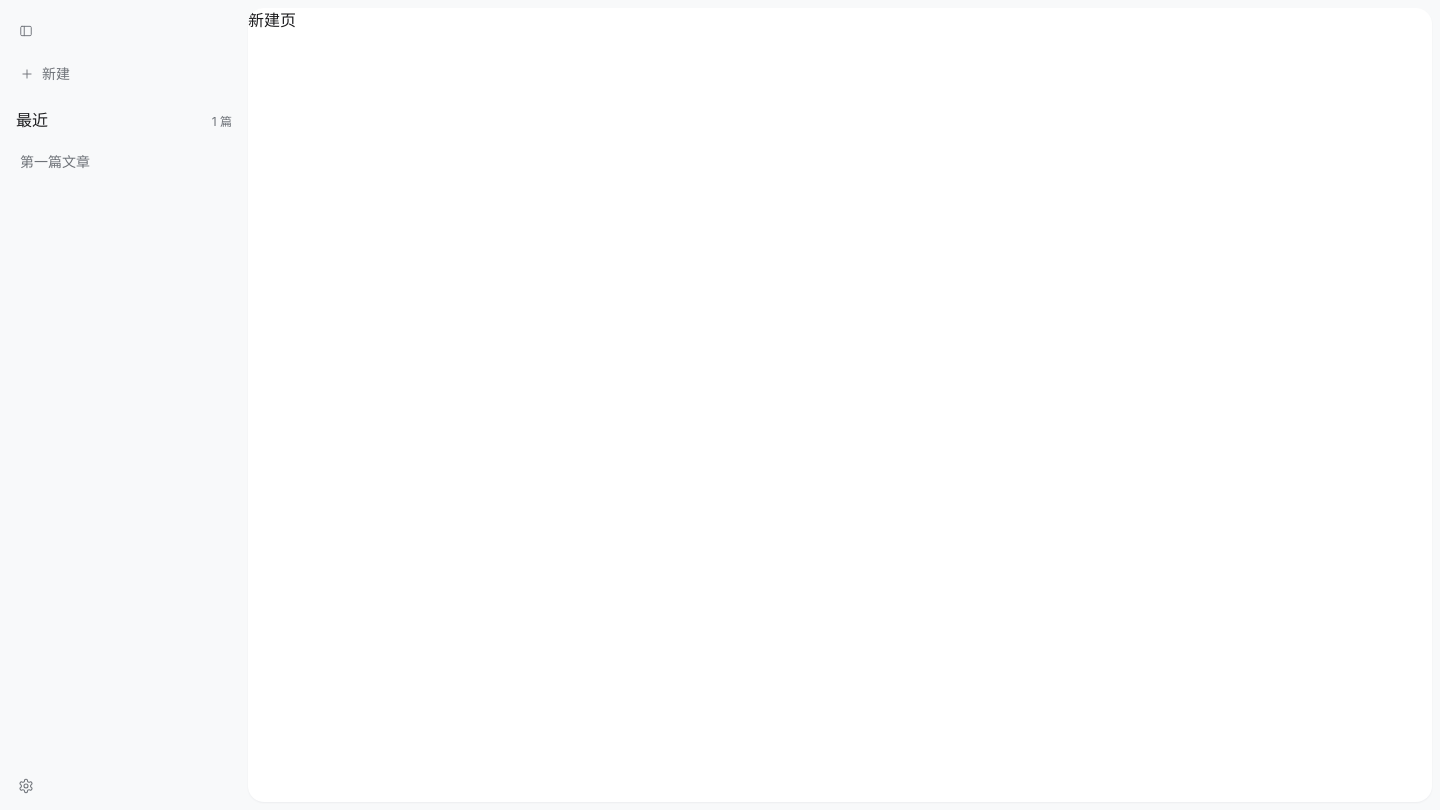
it: Home 布局 › 点击历史项跳转到预览并携带 hash
Click the button "第一篇文章". click: {"x": 124, "y": 162}
box: [8,144,240,180]
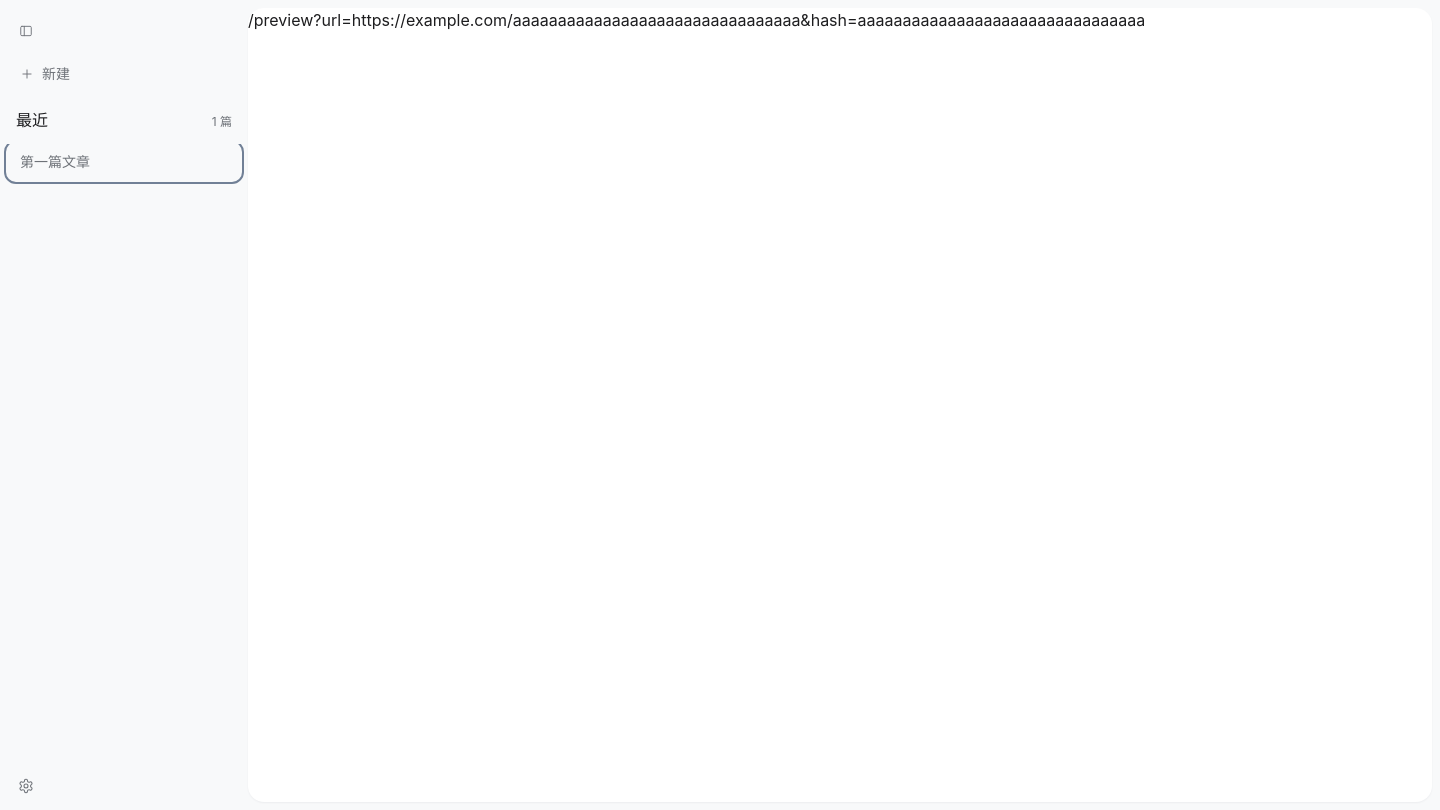
Expected: the text with test id "preview" shows "/preview?url=https://example.com/", [248,10,1145,30]
Expected: the text with test id "preview" shows "hash=aaaaaaaaaaaaaaaaaaaaaaaaaaaaaaaa", [248,10,1145,30]
